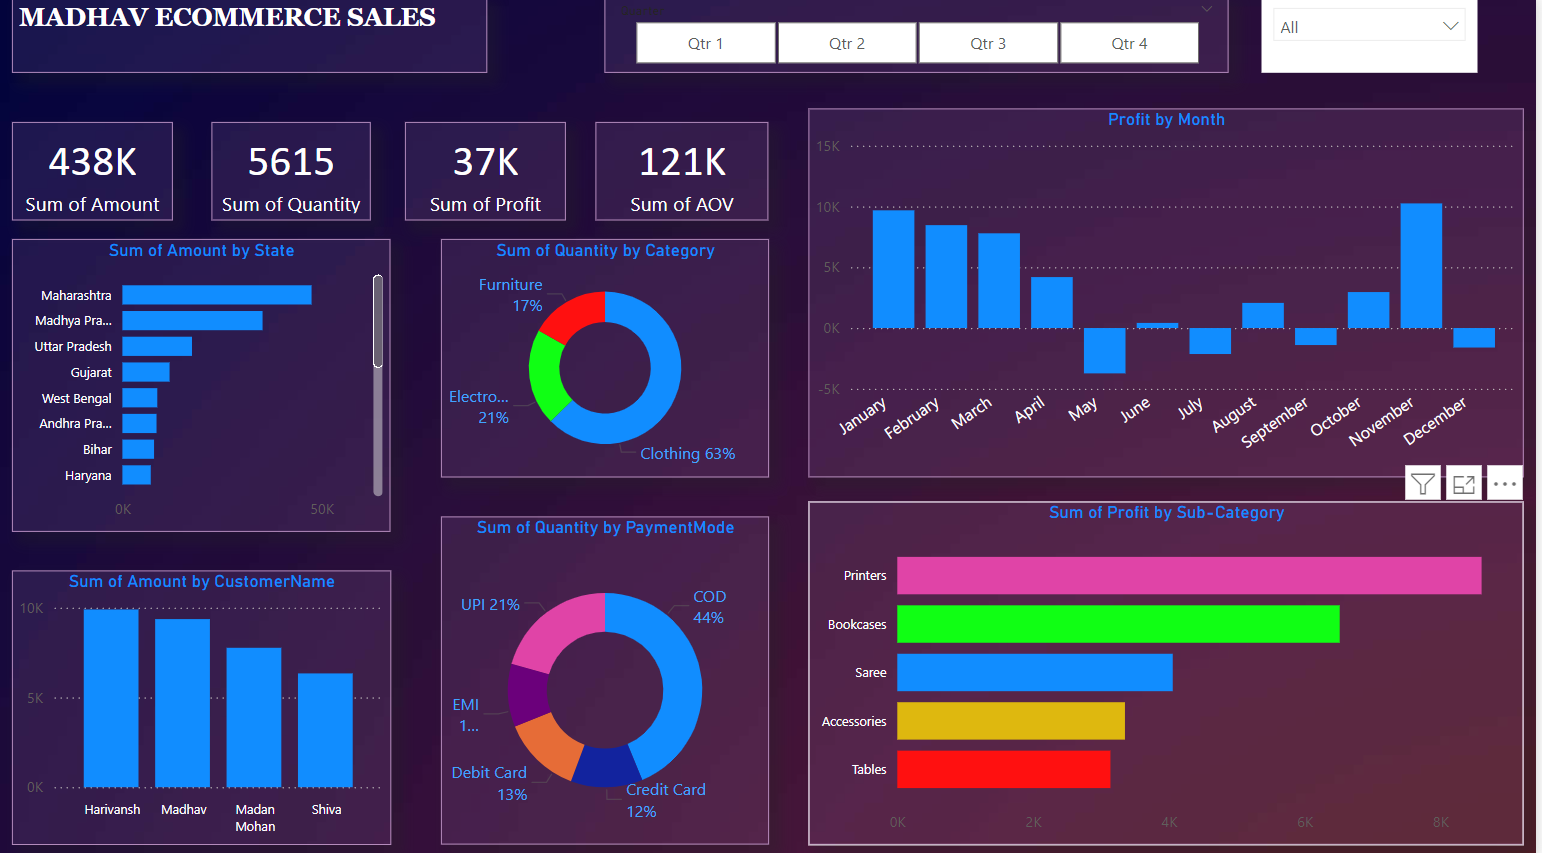

What the dashboard file says about the page in this screenshot:
{"tool":"powerbi","page":{"name":"Page 1","canvas":[1280,720],"ordinal":0},"visuals":[{"type":"textbox","box":[10,0,395.7,64.3],"z":0},{"type":"columnChart","title":"Profit by Month","fields":{"Y":["Details.Profit"],"Category":["Orders.Order Date.Variation.Date Hierarchy.Month"]},"box":[673.4,93.7,596.2,307.6],"z":1000},{"type":"barChart","fields":{"Category":["Details.Sub-Category"],"Y":["Details.Profit"]},"box":[673.4,421.5,596.2,286.1],"z":2000},{"type":"donutChart","fields":{"Category":["Details.Category"],"Y":["Details.Quantity"]},"box":[367.1,202.5,273.4,198.7],"z":3000},{"type":"donutChart","fields":{"Y":["Details.Quantity"],"Series":["Details.PaymentMode"]},"box":[367.1,434.2,273.4,273.4],"z":4000},{"type":"card","fields":{"Values":["Details.Amount"]},"box":[10.1,105.1,134.2,82.3],"z":5000},{"type":"card","fields":{"Values":["Details.Quantity"]},"box":[175.9,105.1,132.9,82.3],"z":6000},{"type":"card","fields":{"Values":["Details.Profit"]},"box":[338,105.1,134.2,82.3],"z":7000},{"type":"card","fields":{"Values":["Details.AOV"]},"box":[496.2,105.1,144.3,82.3],"z":8000},{"type":"barChart","fields":{"Category":["Orders.State"],"Y":["Details.Amount"]},"box":[10.1,202.5,315.2,244.3],"z":9000},{"type":"columnChart","fields":{"Category":["Orders.CustomerName"],"Y":["Details.Amount"]},"box":[10,478.6,315.7,228.6],"z":10000},{"type":"slicer","fields":{"Values":["Orders.Order Date.Variation.Date Hierarchy.Quarter"]},"box":[504.3,0,520,64.3],"z":11000},{"type":"slicer","fields":{"Values":["Orders.State"]},"box":[1051.4,0,180,64.3],"z":12000}]}

Visuals, with their boxes in screenshot pixels (x1, y1, x2, y2), scaled from the page's 1280x720 canvas onto the 1542x853 screenshot:
textbox: left=12, top=0, right=489, bottom=76
"Profit by Month" columnChart: left=811, top=111, right=1529, bottom=475
barChart - Details.Sub-Category x Details.Profit: left=811, top=499, right=1529, bottom=838
donutChart - Details.Category x Details.Quantity: left=442, top=240, right=772, bottom=475
donutChart - Details.Quantity x Details.PaymentMode: left=442, top=514, right=772, bottom=838
card - Details.Amount: left=12, top=125, right=174, bottom=222
card - Details.Quantity: left=212, top=125, right=372, bottom=222
card - Details.Profit: left=407, top=125, right=569, bottom=222
card - Details.AOV: left=598, top=125, right=772, bottom=222
barChart - Orders.State x Details.Amount: left=12, top=240, right=392, bottom=529
columnChart - Orders.CustomerName x Details.Amount: left=12, top=567, right=392, bottom=838
slicer - Orders.Order Date.Variation.Date Hierarchy.Quarter: left=608, top=0, right=1234, bottom=76
slicer - Orders.State: left=1267, top=0, right=1483, bottom=76
